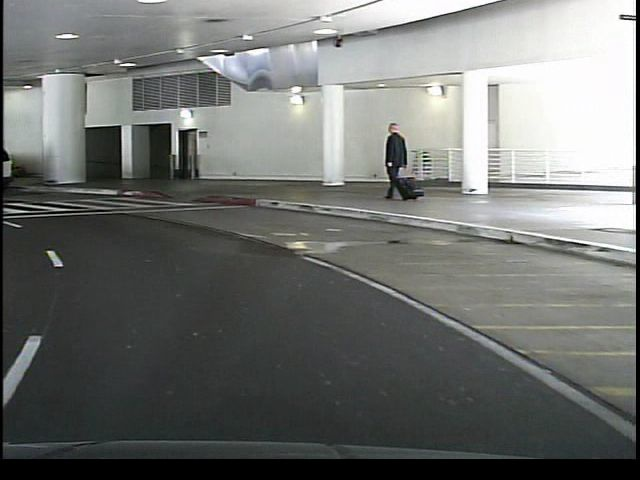person: (376, 121, 415, 199)
